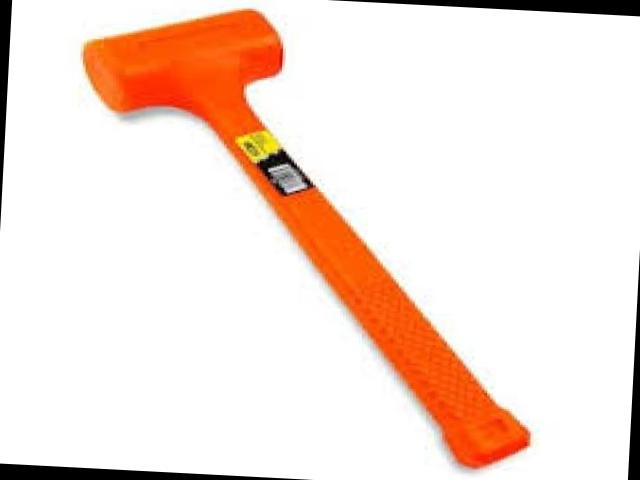hammer: (61, 0, 556, 471)
